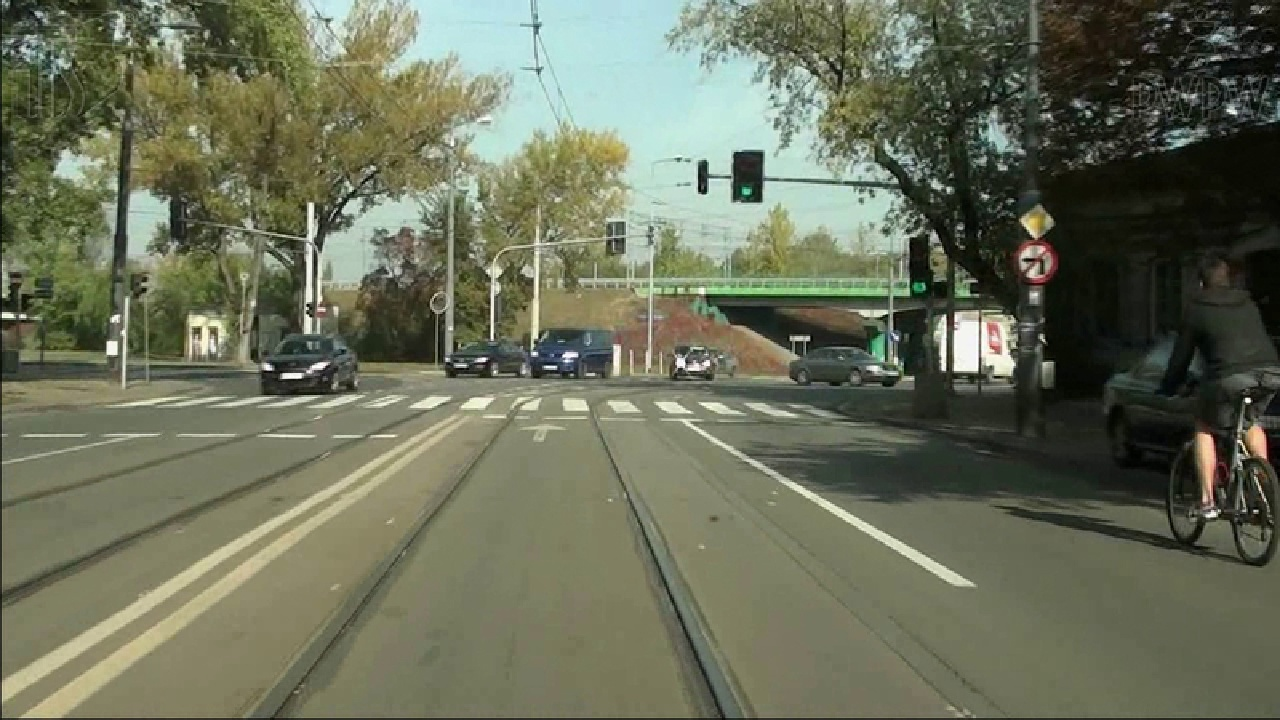B21: (1009, 240, 1061, 285)
D1: (1011, 197, 1059, 241)
